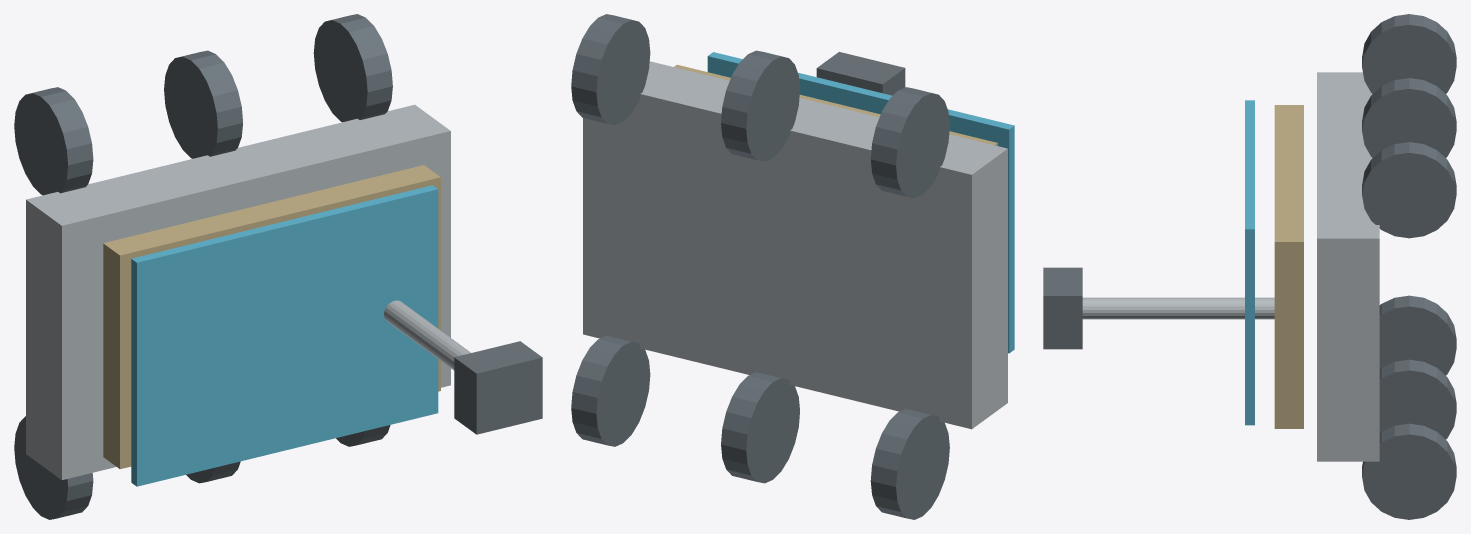
Rendered from sojourner.glb.
3 renders of one model, left to right at view 1: azimuth 30°, elevation 25°; view 2: azimuth 150°, elevation 25°; view 3: azimuth 270°, elevation 25°, orthographic. The views are drawn at different scales.
Visible parts, largest first — view 1: solar_panel, chassis, equipment_deck, camera_head, wheel_1_1, wheel_0_1, wheel_-1_1, wheel_-1_-1, camera_mast, wheel_0_-1, wheel_1_-1; view 2: chassis, wheel_1_1, wheel_0_1, wheel_-1_-1, wheel_-1_1, wheel_0_-1, wheel_1_-1, solar_panel, camera_head, equipment_deck; view 3: chassis, equipment_deck, wheel_1_1, wheel_1_-1, wheel_-1_1, wheel_0_1, wheel_-1_-1, wheel_0_-1, camera_mast, camera_head, solar_panel.
Boxes of the visible parts, x1,y1,x2,y2 form: solar_panel: [131, 185, 438, 486]; chassis: [26, 104, 450, 479]; equipment_deck: [103, 165, 440, 469]; camera_head: [454, 341, 542, 434]; wheel_1_1: [313, 14, 392, 122]; wheel_0_1: [164, 50, 242, 158]; wheel_-1_1: [14, 87, 93, 195]; wheel_-1_-1: [14, 416, 93, 519]; camera_mast: [384, 300, 470, 370]; wheel_0_-1: [186, 461, 240, 483]; wheel_1_-1: [336, 425, 390, 446]; chassis: [583, 61, 1007, 429]; wheel_1_1: [571, 14, 650, 125]; wheel_0_1: [721, 50, 799, 161]; wheel_-1_-1: [870, 408, 949, 519]; wheel_-1_1: [870, 87, 949, 198]; wheel_0_-1: [721, 372, 799, 483]; wheel_1_-1: [571, 335, 650, 446]; solar_panel: [707, 52, 1014, 353]; camera_head: [816, 52, 905, 95]; equipment_deck: [674, 64, 997, 145]; chassis: [1317, 72, 1379, 461]; equipment_deck: [1274, 105, 1303, 428]; wheel_1_1: [1362, 142, 1456, 238]; wheel_1_-1: [1362, 423, 1456, 519]; wheel_-1_1: [1362, 14, 1456, 93]; wheel_0_1: [1362, 78, 1456, 157]; wheel_-1_-1: [1379, 295, 1456, 375]; wheel_0_-1: [1379, 359, 1456, 439]; camera_mast: [1082, 297, 1274, 319]; camera_head: [1043, 267, 1082, 349]; solar_panel: [1245, 100, 1254, 425].
Bounding box in the file's own units: 2 × 2.06 × 2.1.
